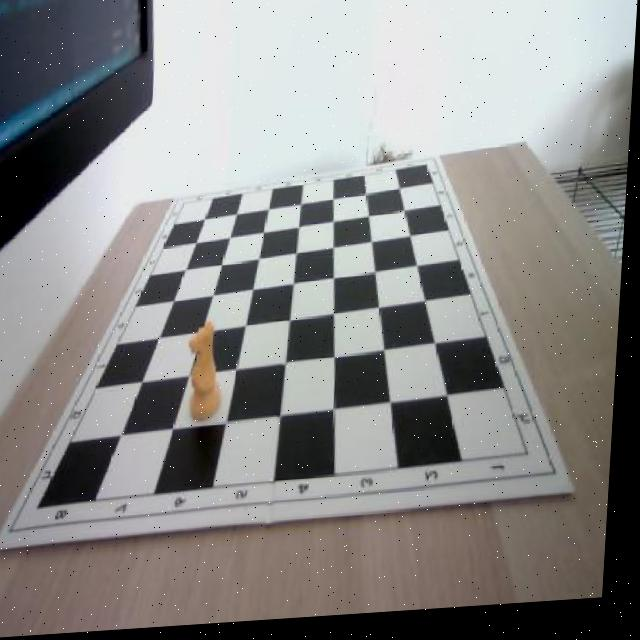white-king: (189, 322, 230, 427)
